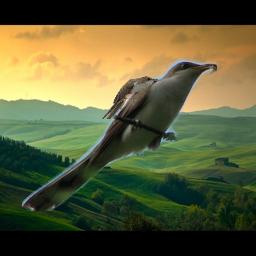Cuckoo: (22, 58, 217, 211), (101, 76, 159, 119)
